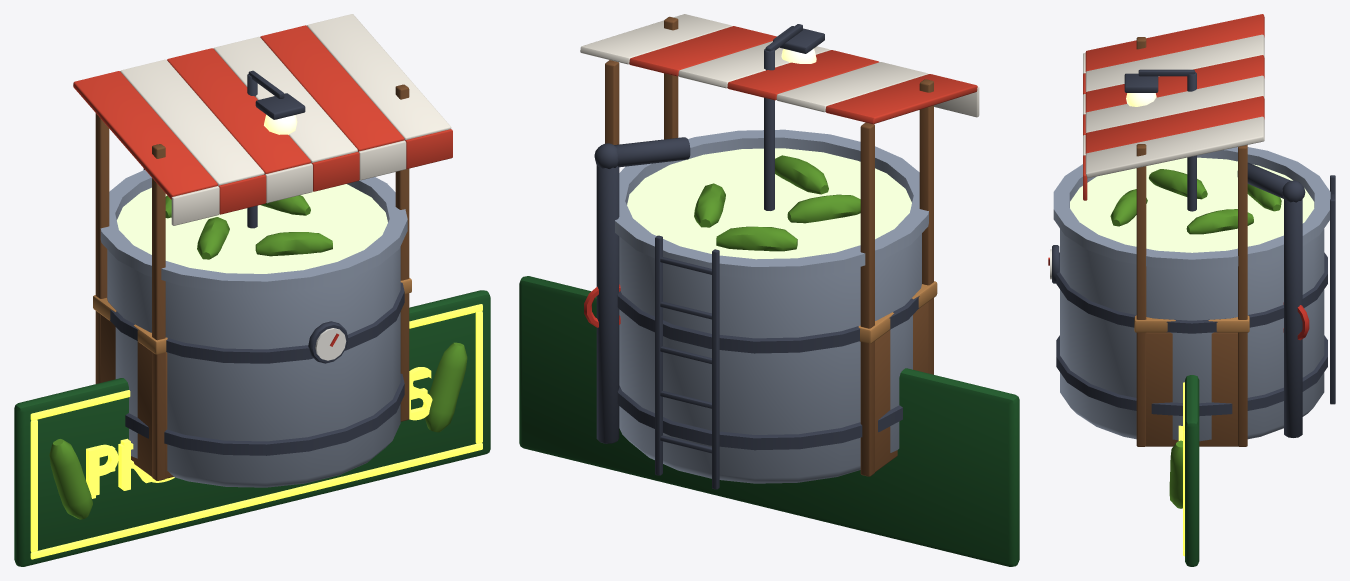
The model's file is props.glb.
The picture shows the model from 3 angles, left to right: view 1: azimuth 30°, elevation 25°; view 2: azimuth 150°, elevation 25°; view 3: azimuth 270°, elevation 25°; orthographic projection. The views are drawn at different scales.
Parts seen in each view (by area): view 1: Vat, Stall, Sign, Lamp, SignBrine; view 2: Vat, Sign, Stall, Lamp; view 3: Vat, Stall, Sign, Lamp.
Part boxes in pixels (x1,y1,x2,y2): Vat: (100,168,407,487); Stall: (73,14,452,480); Sign: (14,290,490,566); Lamp: (247,70,305,228); SignBrine: (93,372,428,495); Vat: (584,129,928,489); Sign: (519,276,1019,566); Stall: (580,14,979,476); Lamp: (764,24,824,210); Vat: (1048,147,1335,441); Stall: (1083,14,1264,446); Sign: (1169,375,1199,566); Lamp: (1124,69,1196,211).
Bounding box in the file's own units: 3.5 × 3.09 × 2.04.
